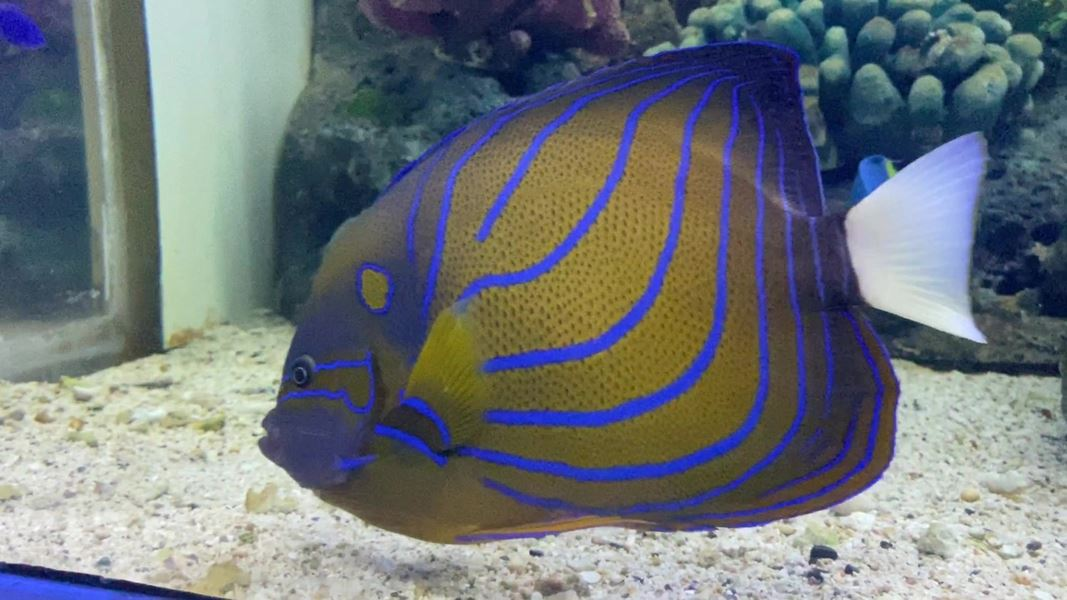Blue ring angelfish: (252, 26, 1007, 529)
